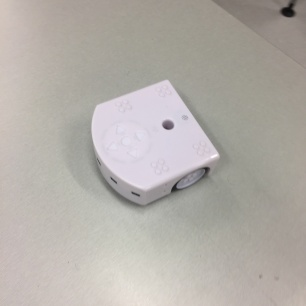thymio: (83, 75, 228, 207)
